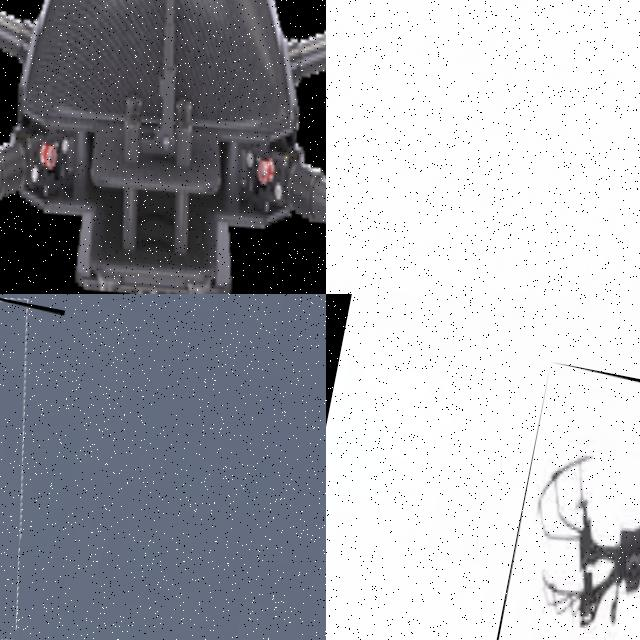0: (494, 362, 640, 640), (0, 294, 65, 640)
drone: (0, 0, 326, 294)
